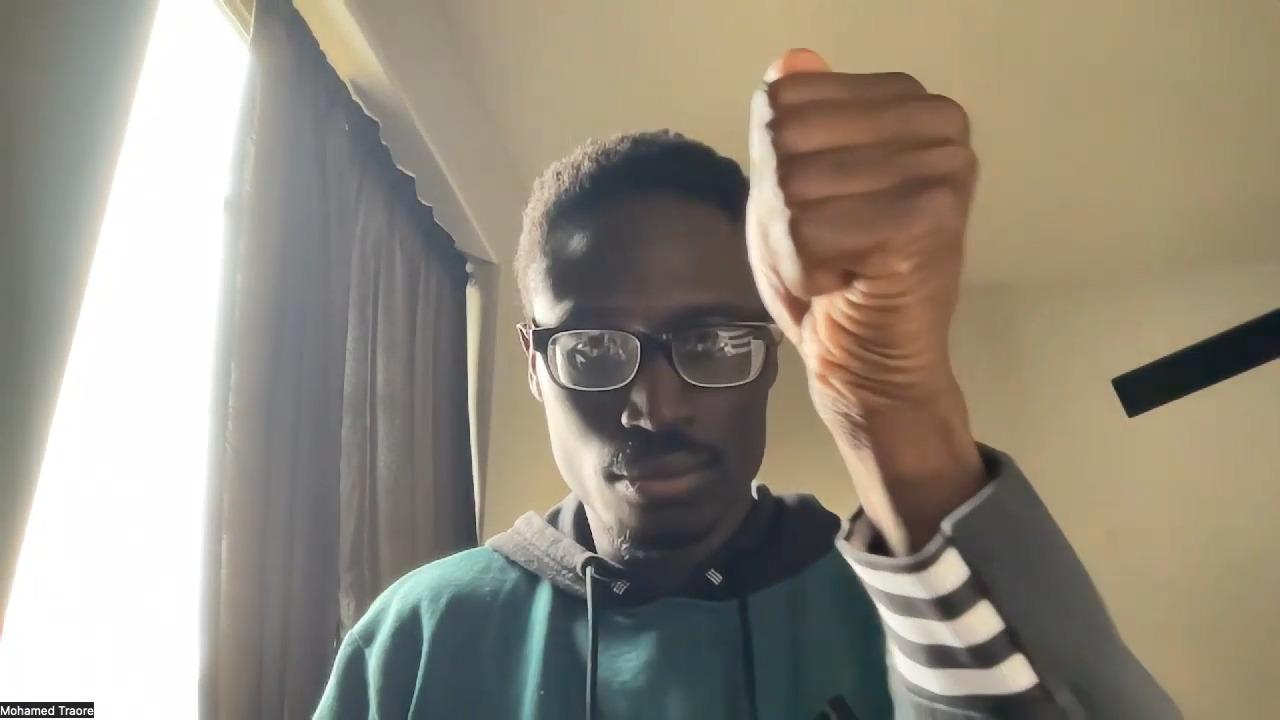Rock: (745, 43, 981, 421)
